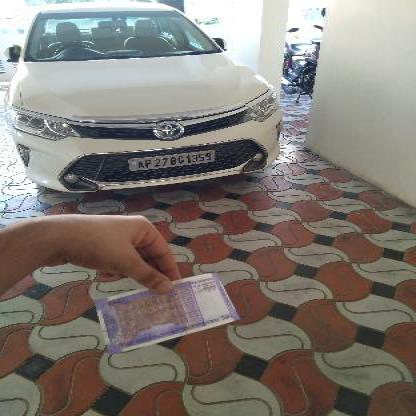New100Back: (95, 275, 238, 347)
